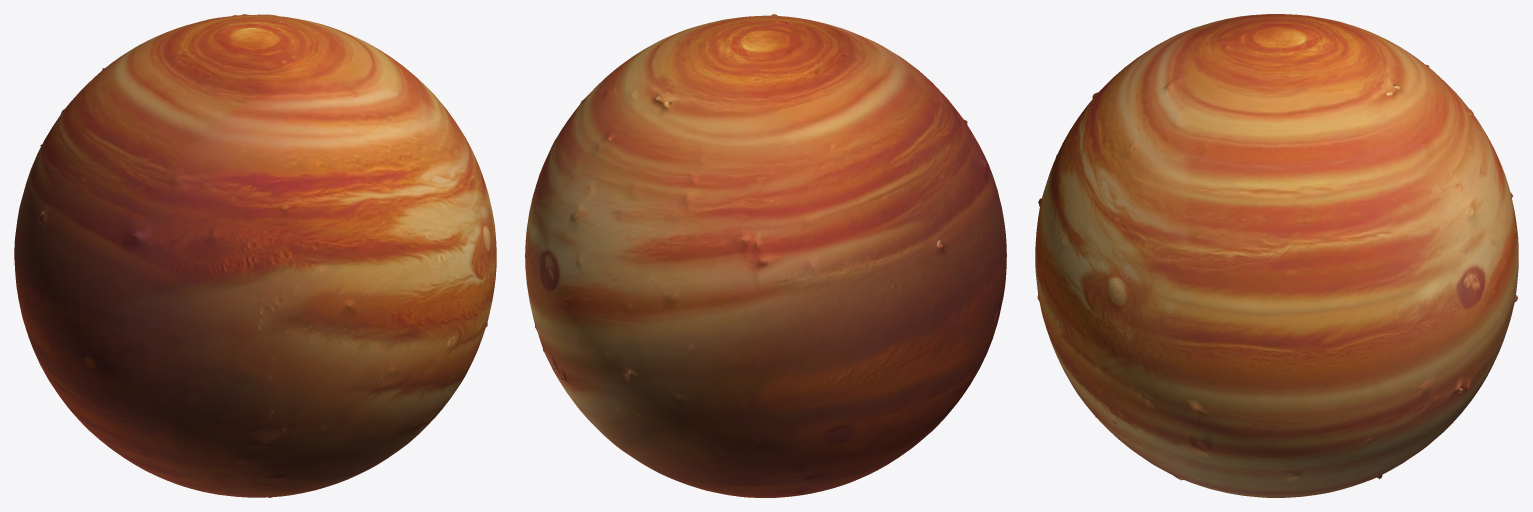
Rendered from desert_planet_1.glb.
3 views of the same model, side by side, from view 1: azimuth 30°, elevation 25°; view 2: azimuth 150°, elevation 25°; view 3: azimuth 270°, elevation 25° (orthographic).
Parts seen in each view (by area): view 1: Mesh_0.008; view 2: Mesh_0.008; view 3: Mesh_0.008.
Part boxes in pixels (x1,y1,x2,y2): Mesh_0.008: (14,14,496,497); Mesh_0.008: (525,14,1006,497); Mesh_0.008: (1035,14,1518,497).
Size of the model in its own units: 2 by 2 by 2.
1 material, 1 textured.
